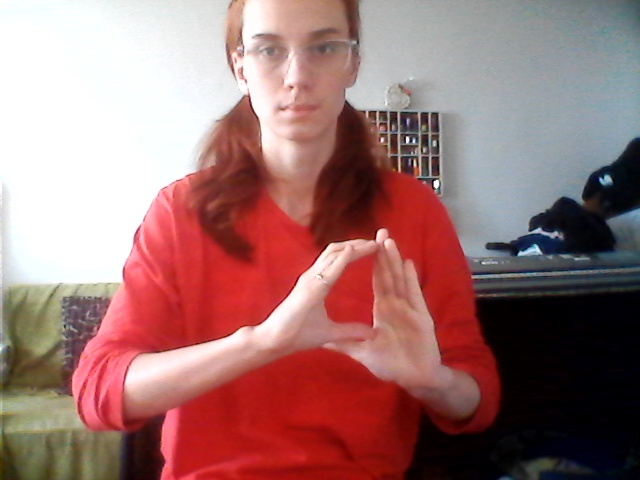d: (287, 226, 448, 392)
